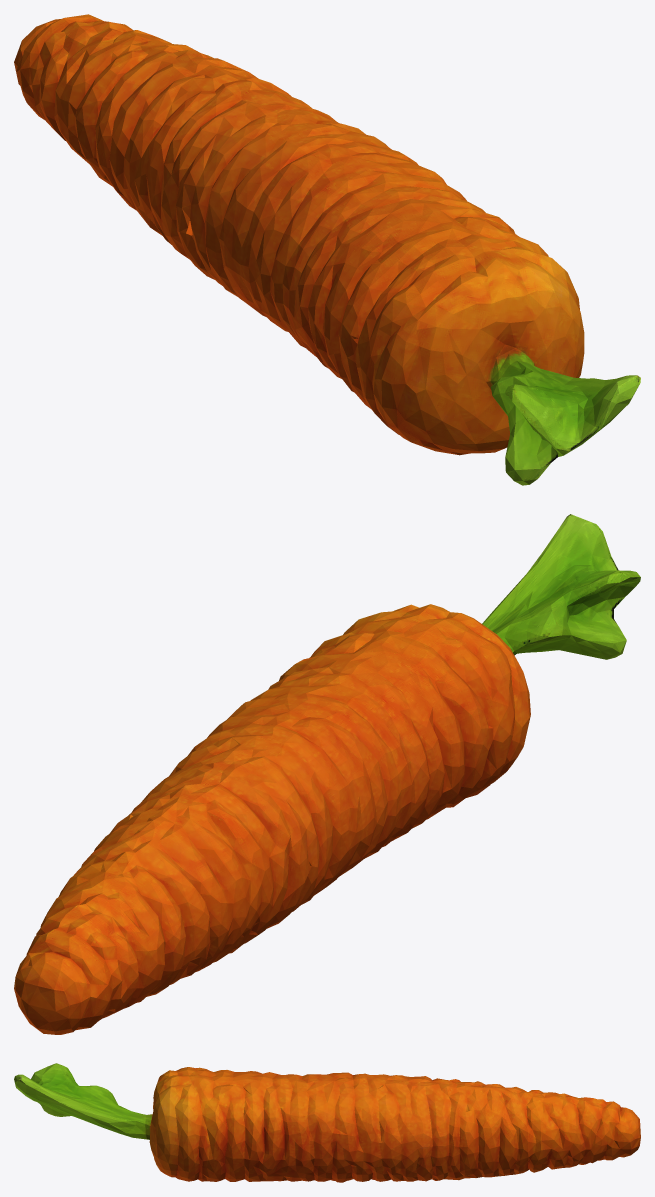
The model's file is carriot.glb.
The picture shows the model from 3 angles, top to bottom: view 1: azimuth 30°, elevation 25°; view 2: azimuth 150°, elevation 25°; view 3: azimuth 270°, elevation 25°; orthographic projection. The views are drawn at different scales.
Visible parts, largest first — view 1: world; view 2: world; view 3: world.
Part boxes in pixels (x1,y1,x2,y2): world: [14, 14, 640, 485]; world: [14, 514, 640, 1034]; world: [14, 1063, 640, 1182].
Bounding box in the file's own units: 0.2054 × 0.1791 × 0.9995.
Materials: 1 (1 with a texture image).
